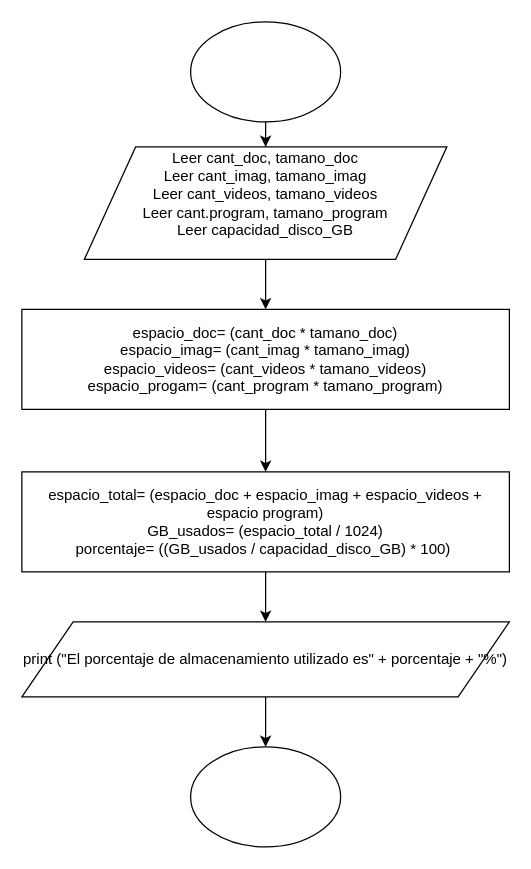
The diagram is 531 pixels wide and 869 high, and some of its shapes have lost their labels. The centre of each missing label's shape, as x and y in pixels:
Fin: the point at 265,796
Inicio: the point at 265,71
